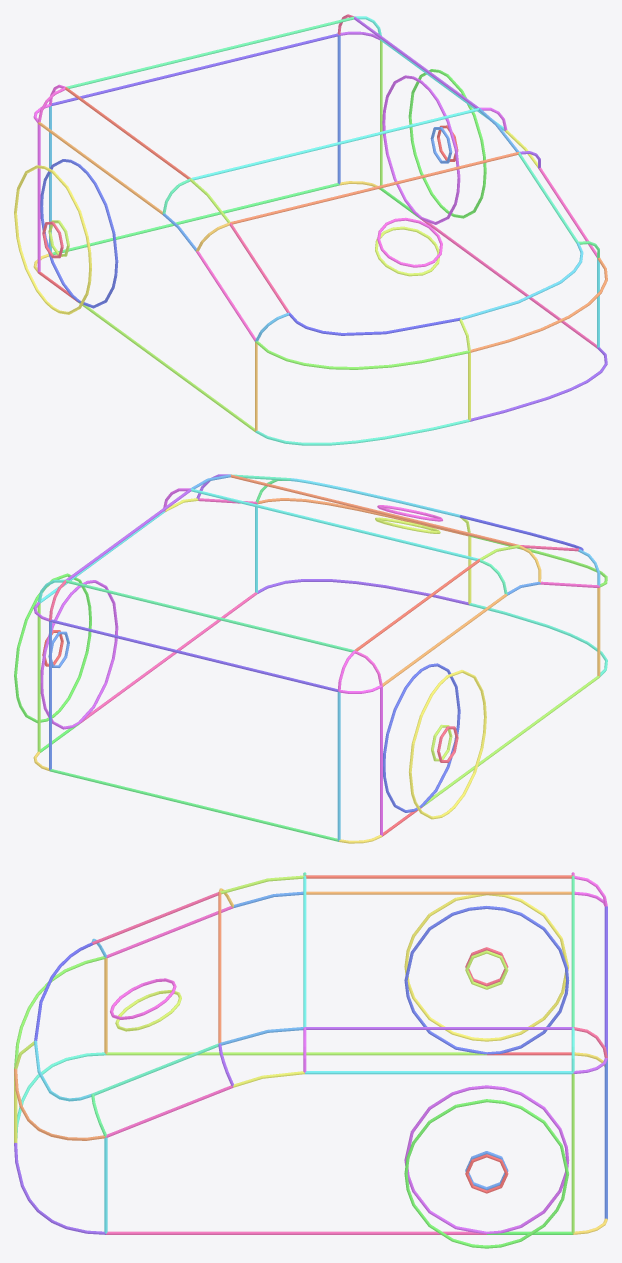
The model's file is onshape_vacuum.gltf.
3 renders of one model, top to bottom at view 1: azimuth 30°, elevation 25°; view 2: azimuth 150°, elevation 25°; view 3: azimuth 270°, elevation 25°, orthographic. The views are drawn at different scales.
Size of the model in its own units: 0.6195 by 0.2686 by 0.7464.
